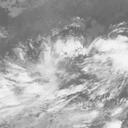cyclone: (33, 47, 97, 104)
